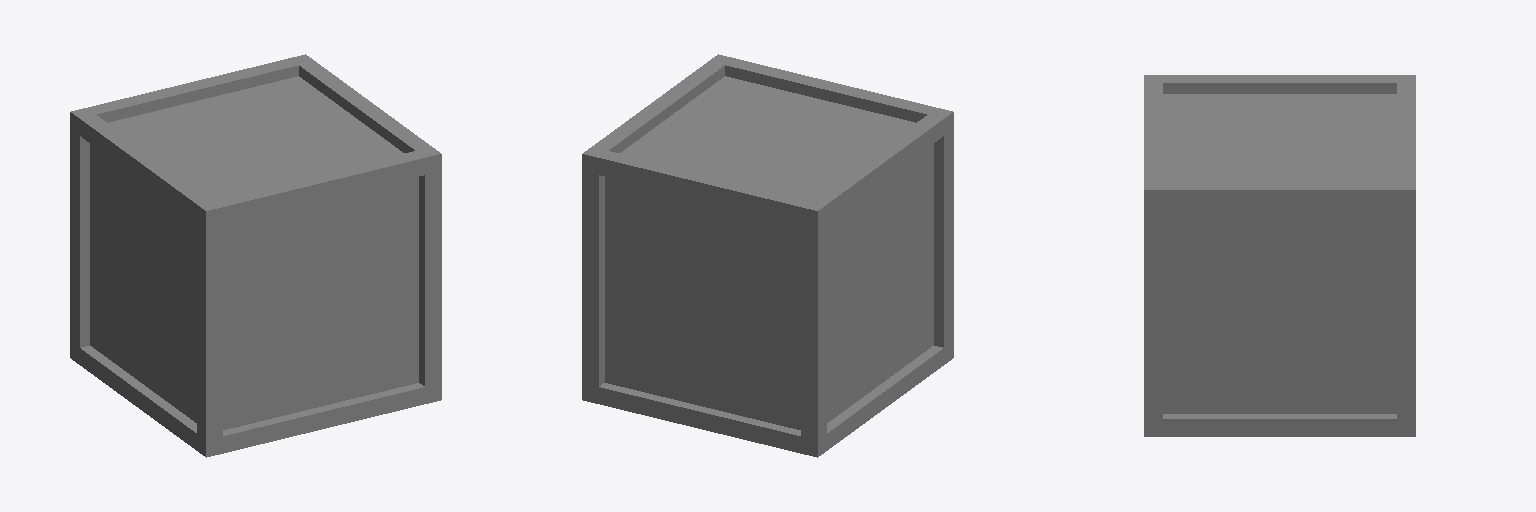
The model's file is crate_ntex.obj.
The picture shows the model from 3 angles: view 1: azimuth 30°, elevation 25°; view 2: azimuth 150°, elevation 25°; view 3: azimuth 270°, elevation 25°; orthographic projection.
Parts seen in each view (by area): view 1: crate_ntex; view 2: crate_ntex; view 3: crate_ntex.
Part boxes in pixels (bbox=[...]): crate_ntex: bbox=[70, 54, 441, 457]; crate_ntex: bbox=[582, 54, 953, 457]; crate_ntex: bbox=[1144, 75, 1415, 436].
Bounding box in the file's own units: 0.8151 × 0.815 × 0.815.